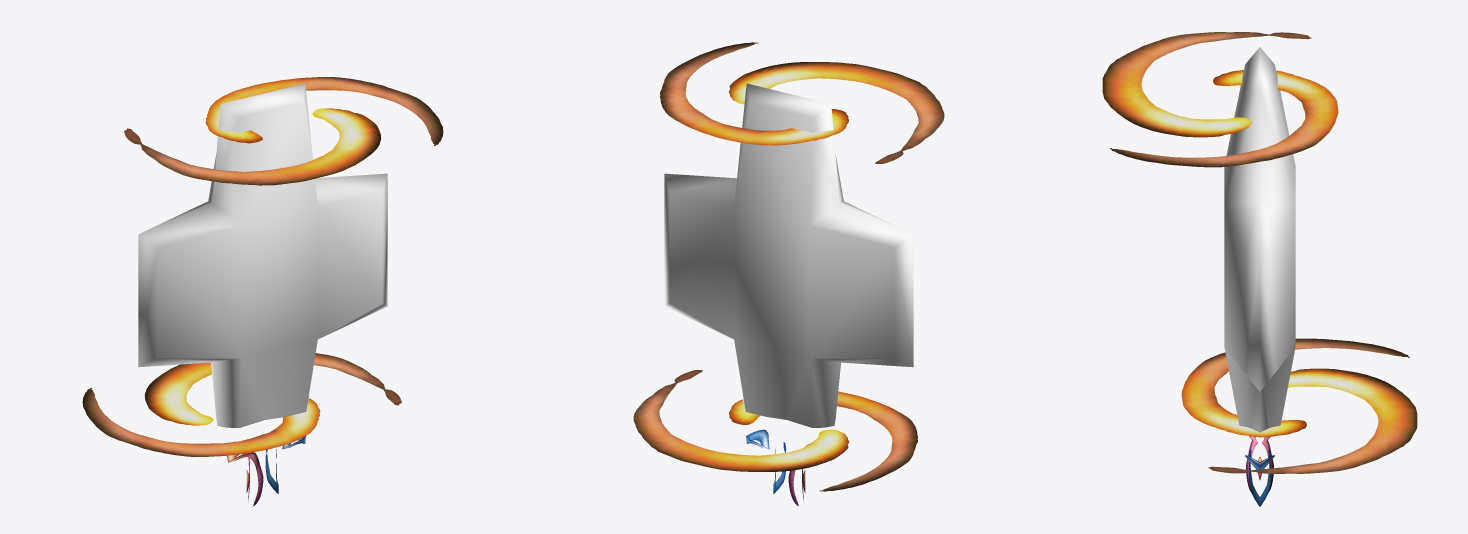
Rendered from datan_common_body52_onmsx_9b8c6164.obj.
3 views of the same model, side by side, from view 1: azimuth 30°, elevation 25°; view 2: azimuth 150°, elevation 25°; view 3: azimuth 270°, elevation 25° (orthographic). The views are drawn at different scales.
Parts seen in each view (by area): view 1: datan_common_body52_onmsx_9b8c6164_mesh00, datan_common_body52_onmsx_9b8c6164_mesh01, datan_common_body52_onmsx_9b8c6164_mesh02; view 2: datan_common_body52_onmsx_9b8c6164_mesh00, datan_common_body52_onmsx_9b8c6164_mesh01, datan_common_body52_onmsx_9b8c6164_mesh02; view 3: datan_common_body52_onmsx_9b8c6164_mesh00, datan_common_body52_onmsx_9b8c6164_mesh01, datan_common_body52_onmsx_9b8c6164_mesh02.
Boxes of the visible parts, bbox=[...] form: datan_common_body52_onmsx_9b8c6164_mesh00: bbox=[138, 83, 387, 505]; datan_common_body52_onmsx_9b8c6164_mesh01: bbox=[124, 77, 443, 185]; datan_common_body52_onmsx_9b8c6164_mesh02: bbox=[82, 353, 401, 456]; datan_common_body52_onmsx_9b8c6164_mesh00: bbox=[664, 83, 913, 505]; datan_common_body52_onmsx_9b8c6164_mesh01: bbox=[660, 42, 944, 163]; datan_common_body52_onmsx_9b8c6164_mesh02: bbox=[633, 370, 917, 491]; datan_common_body52_onmsx_9b8c6164_mesh00: bbox=[1224, 47, 1295, 506]; datan_common_body52_onmsx_9b8c6164_mesh01: bbox=[1102, 32, 1338, 167]; datan_common_body52_onmsx_9b8c6164_mesh02: bbox=[1181, 338, 1417, 473].
Bounding box in the file's own units: 1.05 × 1.32 × 1.05.
1 material, 1 textured.
